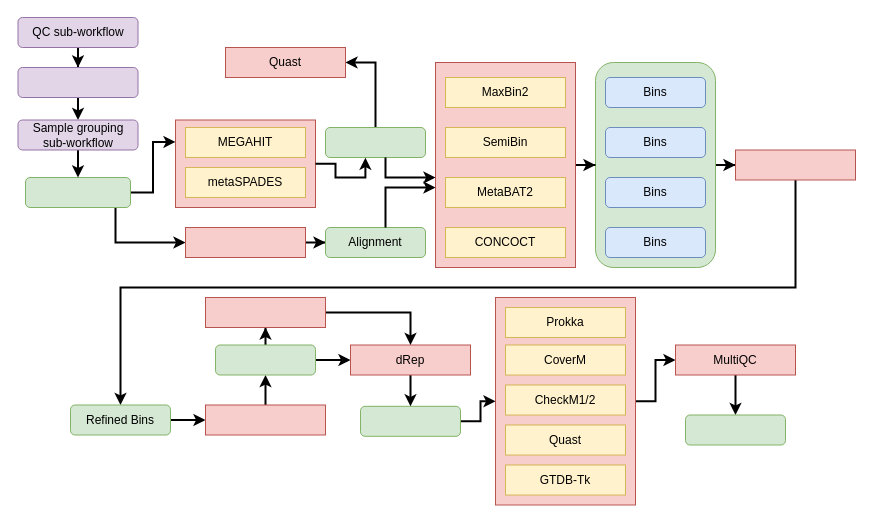
Image size: 873x523. Some labels were removed from this diagram. The shapes that lost their labels are listed below. From the top down, each one's centre as x and y in pixels, then its label:
pixel 77 82: Host-removal sub-workflow
pixel 375 142: Contigs
pixel 795 164: Binette
pixel 77 192: Samples
pixel 245 242: Bowtie2
pixel 265 312: CheckM2
pixel 265 359: Pooled Bins
pixel 265 419: Pool Bins from all samples
pixel 410 420: Best Quality Bins
pixel 735 429: Report
